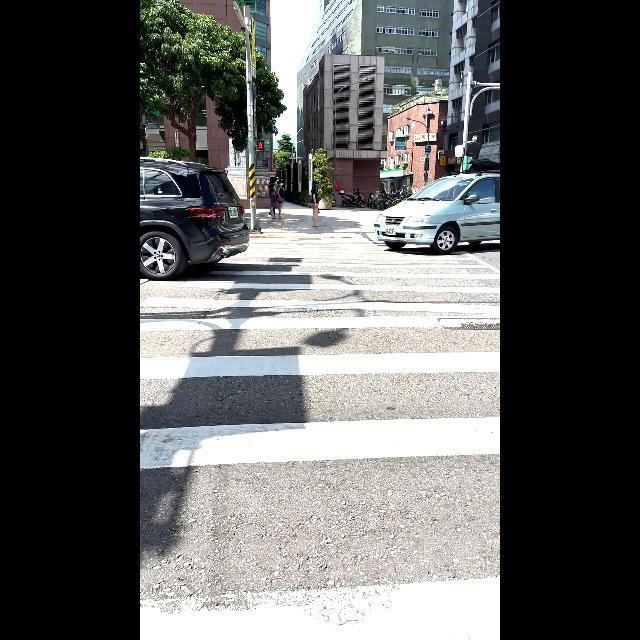sidewalk: (140, 222, 500, 640)
